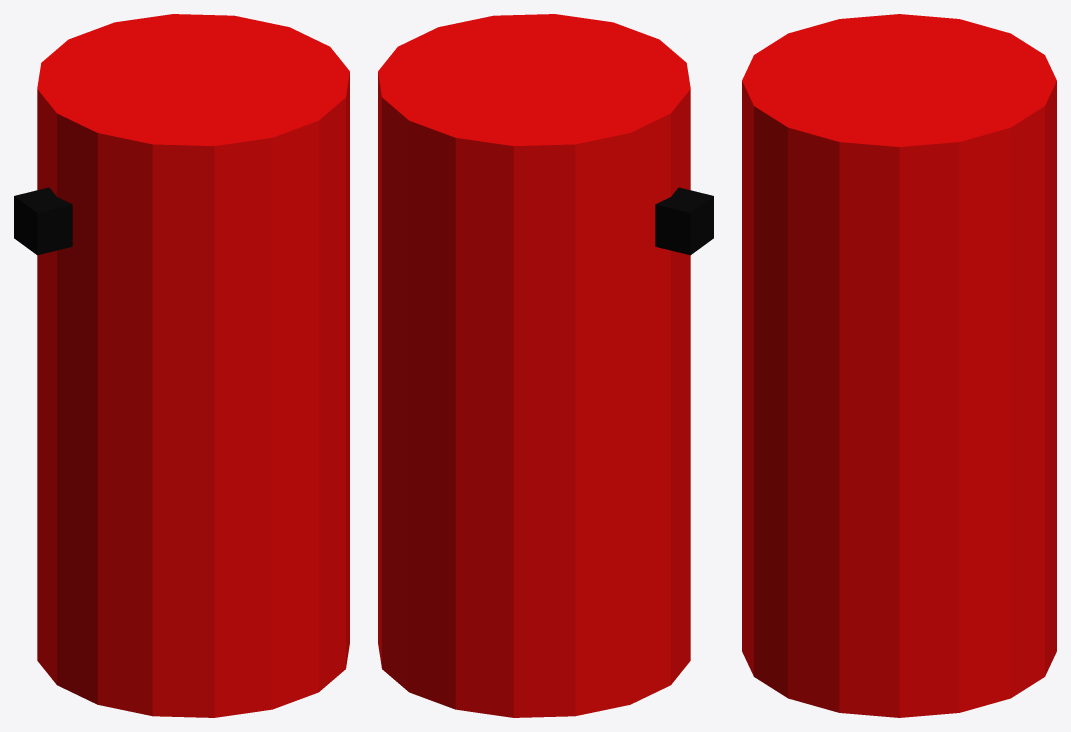
The model's file is button.gltf.
The picture shows the model from 3 angles, left to right: view 1: azimuth 30°, elevation 25°; view 2: azimuth 150°, elevation 25°; view 3: azimuth 270°, elevation 25°; orthographic projection.
Visible parts, largest first — view 1: b, a; view 2: b, a; view 3: b.
Part boxes in pixels (x1,y1,x2,y2): b: (37, 14, 349, 717); a: (14, 187, 72, 255); b: (378, 14, 690, 717); a: (655, 187, 713, 255); b: (742, 14, 1056, 717).
Size of the model in its own units: 111 by 200 by 100.
